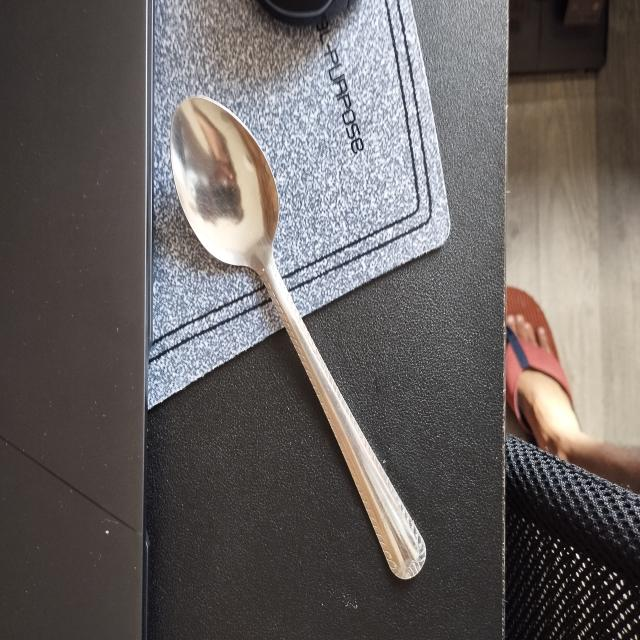Spoon: (148, 84, 446, 593)
